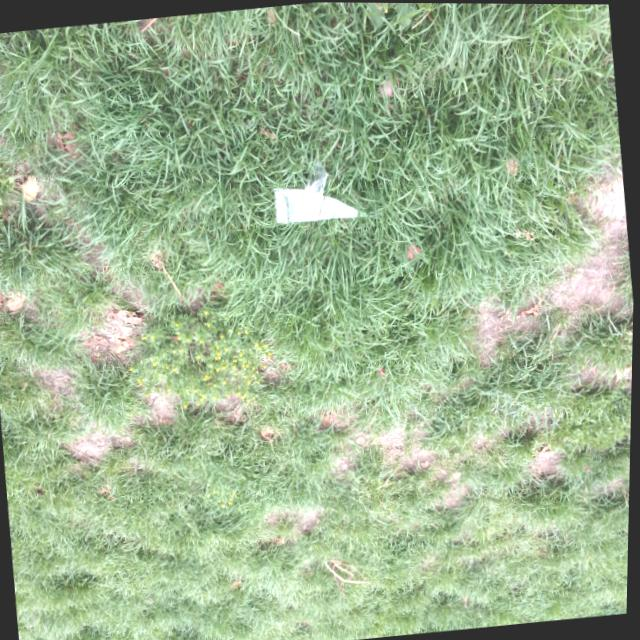Plastic: (263, 144, 375, 232)
